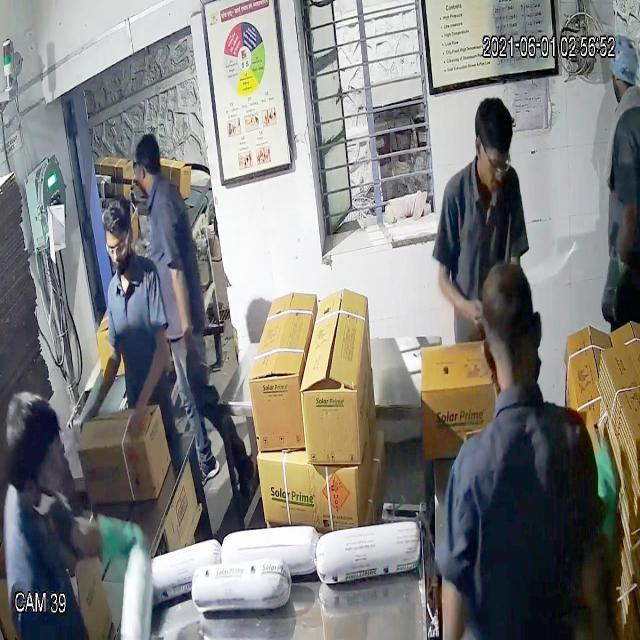glasses: (472, 138, 514, 181), (102, 231, 136, 265)
